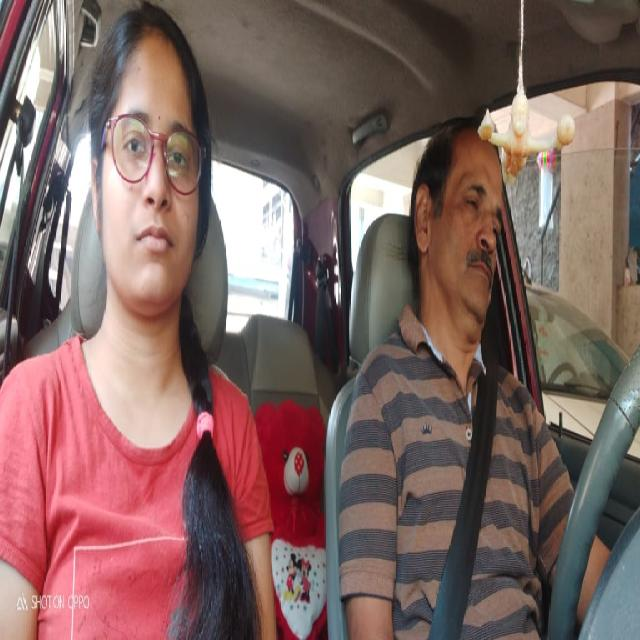drowsy: (412, 119, 508, 336)
person: (86, 6, 207, 313)
